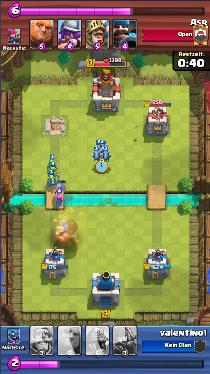ally_archer: (54, 195, 64, 207)
ally_minion: (96, 144, 106, 153), (103, 151, 111, 162), (93, 151, 101, 161)
ally_musketeer: (54, 178, 63, 194)
ally_spear_goblin: (48, 166, 59, 177), (47, 159, 60, 168), (47, 176, 55, 186)
enemy_fireball: (51, 224, 80, 245)
